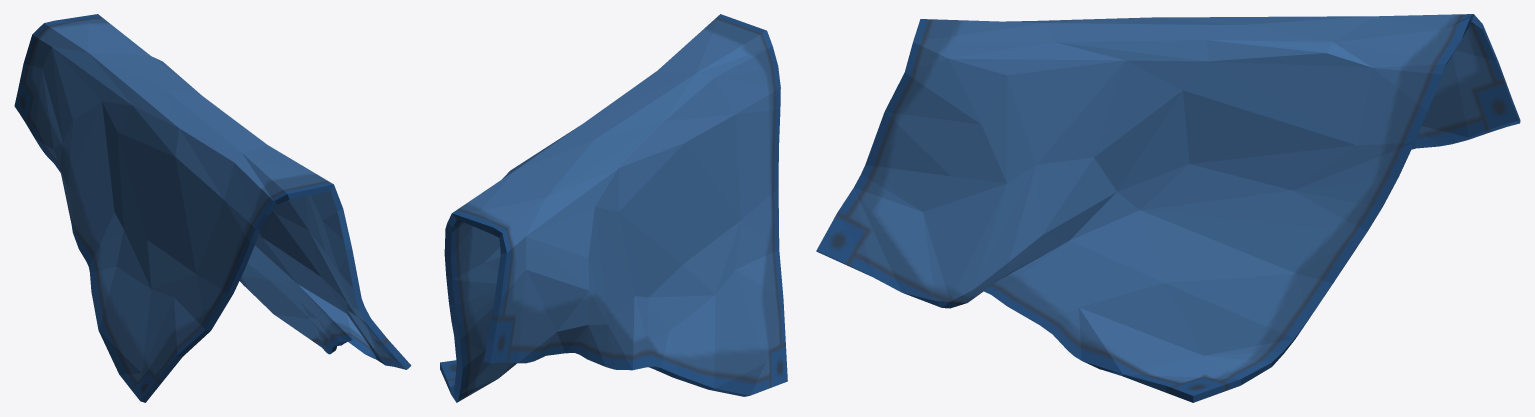
The model's file is SM_Prop_Barrier_Long_02_Tarp.fbx.
3 views of the same model, side by side, from view 1: azimuth 30°, elevation 25°; view 2: azimuth 150°, elevation 25°; view 3: azimuth 270°, elevation 25° (orthographic). The views are drawn at different scales.
Parts seen in each view (by area): view 1: SM_Prop_Barrier_Long_02_Tarp; view 2: SM_Prop_Barrier_Long_02_Tarp; view 3: SM_Prop_Barrier_Long_02_Tarp.
Part boxes in pixels (x1=…): SM_Prop_Barrier_Long_02_Tarp: x1=14, y1=14, x2=411, y2=402; SM_Prop_Barrier_Long_02_Tarp: x1=440, y1=14, x2=787, y2=402; SM_Prop_Barrier_Long_02_Tarp: x1=816, y1=14, x2=1520, y2=402.
Size of the model in its own units: 109 by 104 by 228.
